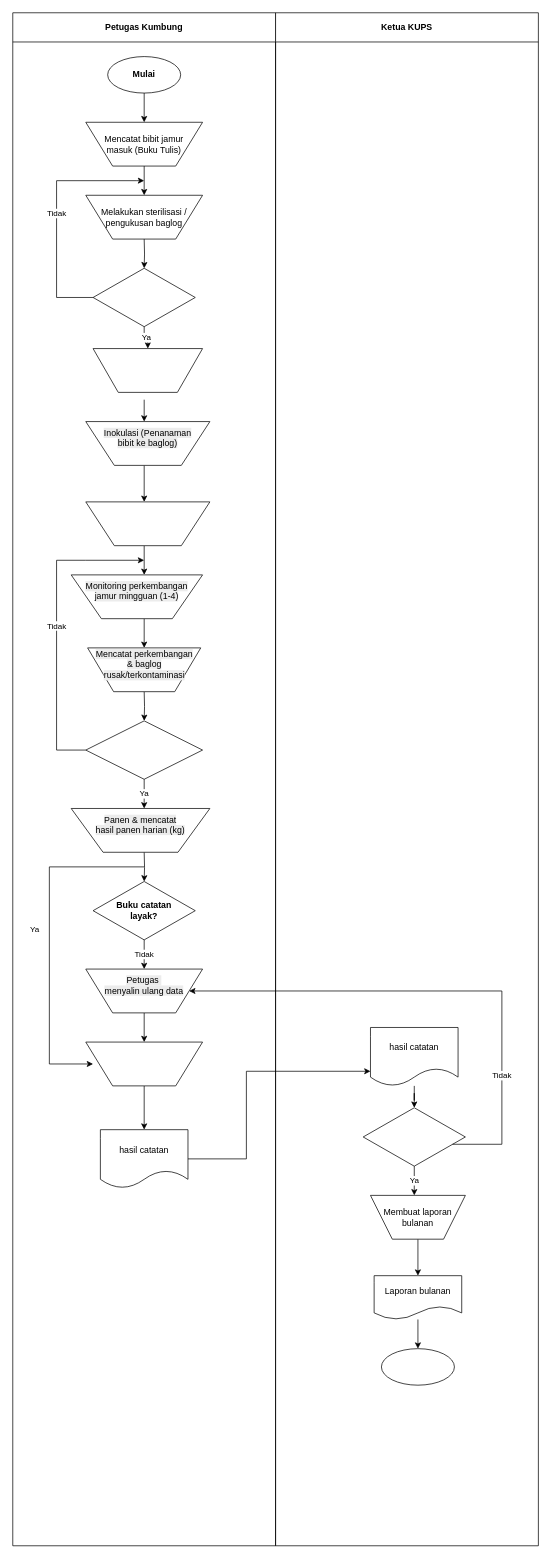
Some shapes in this 551 by 1559 pixel diagram are drawn without their labels. The shapes that lost their labels are listed below. From the top down, each one's centre as x and y in pixels, then its label:
At (143,297): "sterilisasi lancar ?".
At (147,370): "Mencatat hasil sterilisasi baglog".
At (147,523): "Mencatat data inokulasi".
At (144,749): "panen tiba?".
At (144,1063): "Menyerahkan buku catatan".
At (413,1136): "Data jelas & lengkap?".
At (417,1366): "Selesai".
